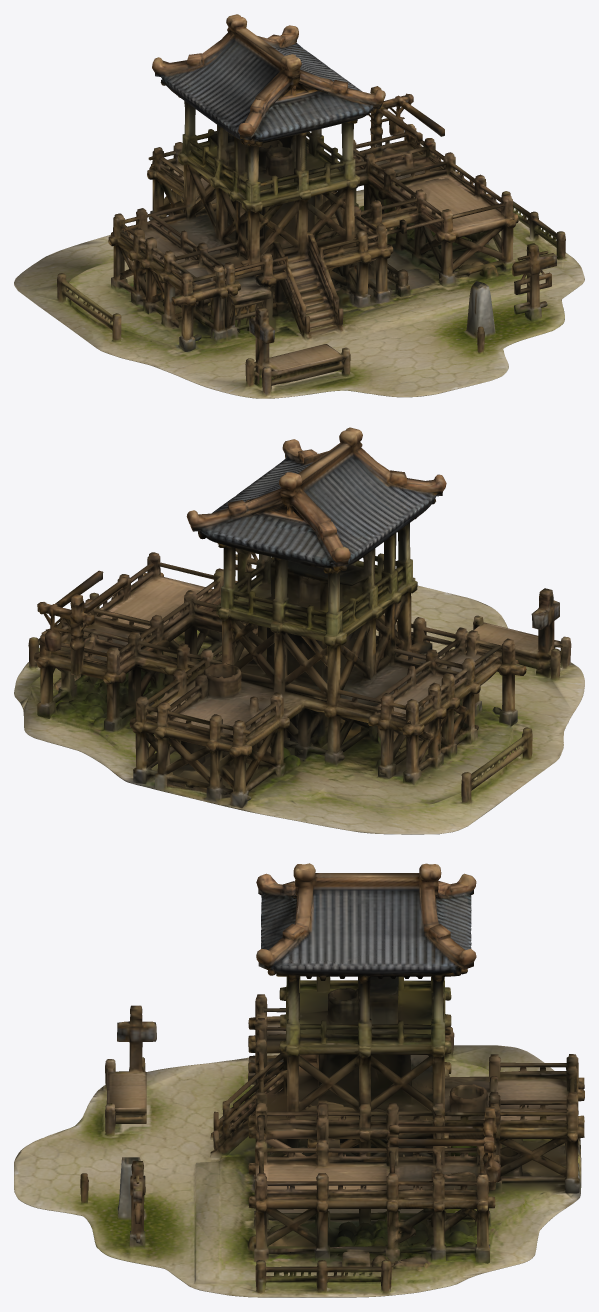
The model's file is GuanzhongPlain.glb.
3 views of the same model, one above another, from view 1: azimuth 30°, elevation 25°; view 2: azimuth 150°, elevation 25°; view 3: azimuth 270°, elevation 25° (orthographic). The views are drawn at different scales.
Visible parts, largest first — view 1: node_0; view 2: node_0; view 3: node_0.
Boxes of the visible parts, x1,y1,x2,y2 form: node_0: [14, 14, 584, 398]; node_0: [14, 427, 584, 834]; node_0: [14, 863, 584, 1297].
Bounding box in the file's own units: 0.9005 × 0.4776 × 0.8623.
Materials: 1 (1 with a texture image).
